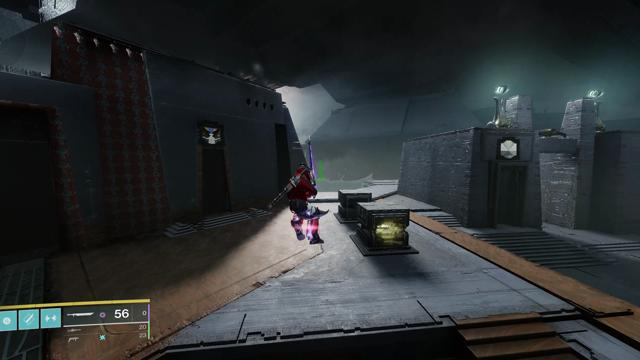commune: (500, 140, 517, 159)
drink: (201, 124, 221, 145)
